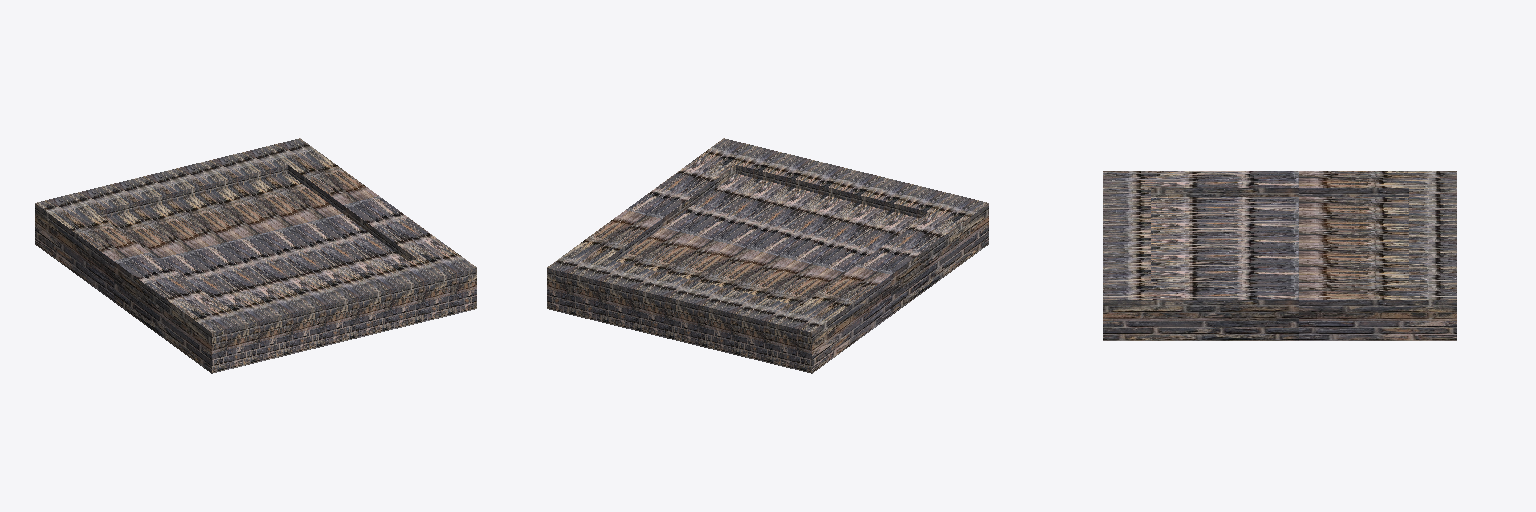
3 views of the same model, side by side, from view 1: azimuth 30°, elevation 25°; view 2: azimuth 150°, elevation 25°; view 3: azimuth 270°, elevation 25° (orthographic).
Parts seen in each view (by area): view 1: Cube_Cube.001; view 2: Cube_Cube.001; view 3: Cube_Cube.001.
Boxes of the visible parts, <box> form: Cube_Cube.001: <box>35,138,476,373</box>; Cube_Cube.001: <box>547,138,988,373</box>; Cube_Cube.001: <box>1103,171,1456,340</box>.
Size of the model in its own units: 11.25 by 1.66 by 12.99.
1 materials, 1 textured.